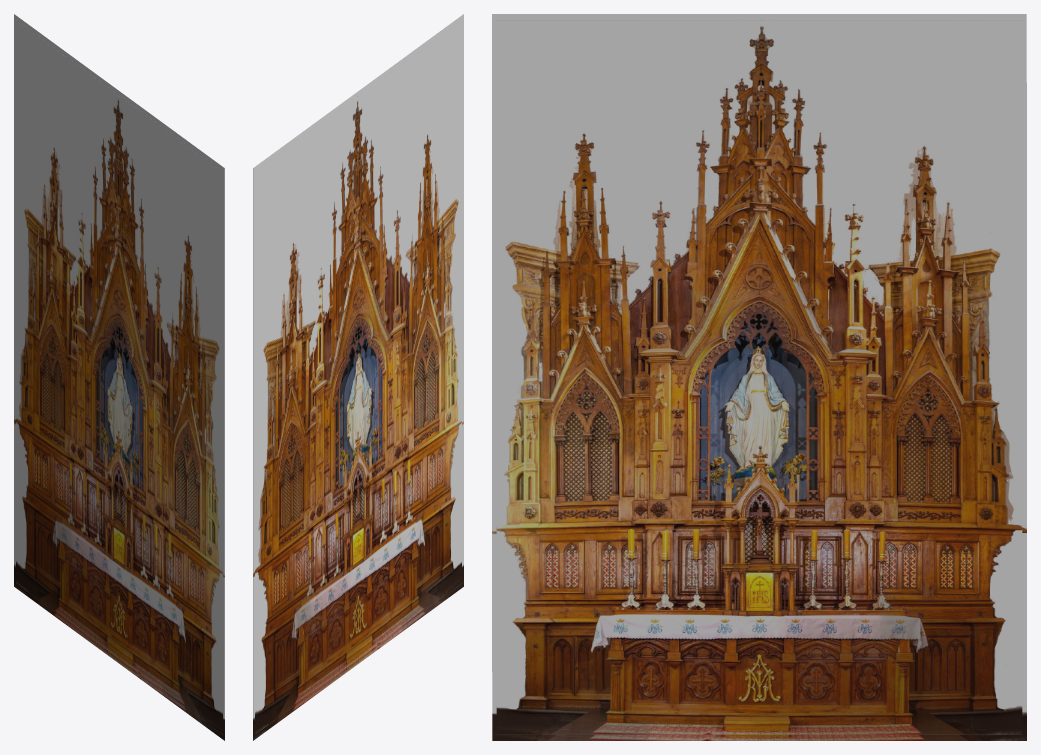
Rendered from 1 - Ołtarz główny.glb.
The picture shows the model from 3 angles, left to right: view 1: azimuth 30°, elevation 25°; view 2: azimuth 150°, elevation 25°; view 3: azimuth 270°, elevation 25°; orthographic projection. The views are drawn at different scales.
Visible parts, largest first — view 1: Plane; view 2: Plane; view 3: Plane.
Part boxes in pixels (x1,y1,x2,y2): Plane: (14, 14, 224, 740); Plane: (253, 14, 463, 740); Plane: (492, 14, 1026, 740).
Size of the model in its own units: 0.0247 by 72 by 48.
Materials: 1 (1 with a texture image).
